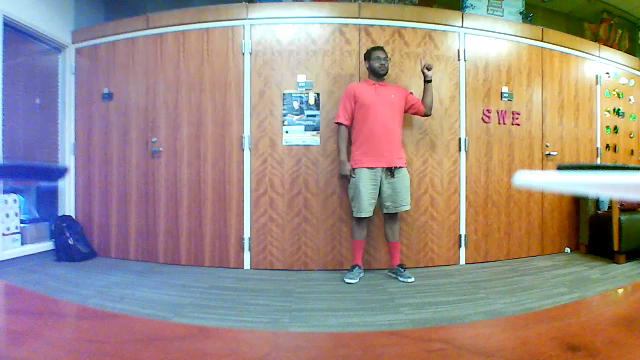up: (416, 53, 440, 90)
